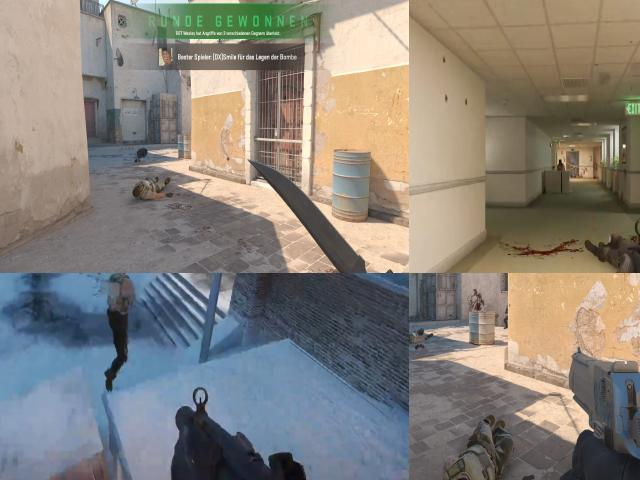CT: (504, 303, 508, 329)
Dead: (441, 410, 525, 480), (131, 172, 175, 204), (409, 327, 433, 344), (134, 147, 150, 159)
T: (554, 156, 567, 170)
T-Head: (104, 273, 136, 343), (113, 273, 130, 279)
